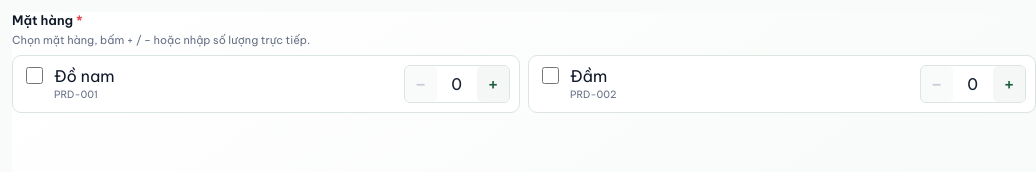
Test: OrderItemSelector quantity steppers › selects with plus, increments, decrements, and removes at zero without negatives
The image size is (1036, 172).
Click the button "+" in the row of "Đồ nam": (493, 84) [477, 66, 509, 102]
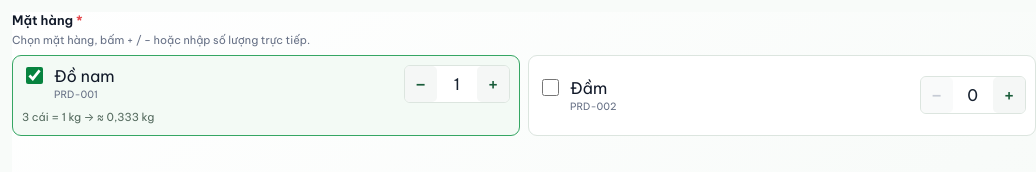
Check: the checkbox labelled "Đồ nam PRD-001" is checked, box [26, 67, 43, 84]
Click the button "+" in the row of "Đồ nam": (493, 84) [477, 66, 509, 102]
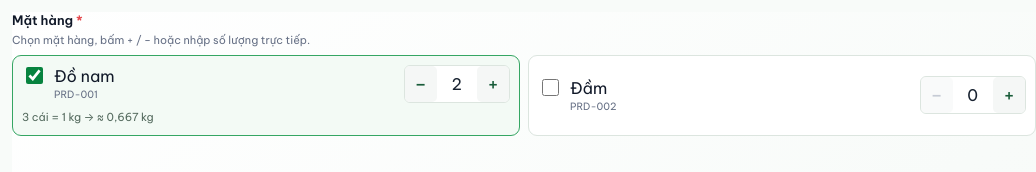
Click the button "−" in the row of "Đồ nam": (421, 84) [405, 66, 437, 102]
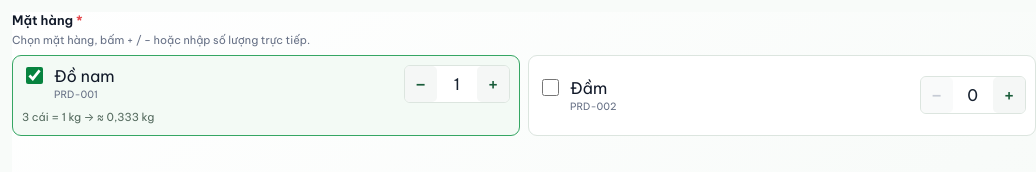
Click the button "−" in the row of "Đồ nam": (421, 84) [405, 66, 437, 102]
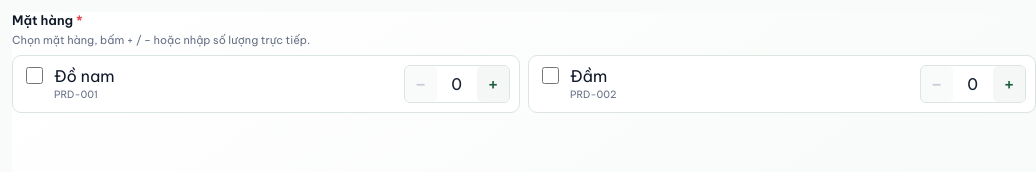
Check: the checkbox labelled "Đồ nam PRD-001" is not checked, box [26, 67, 43, 84]
